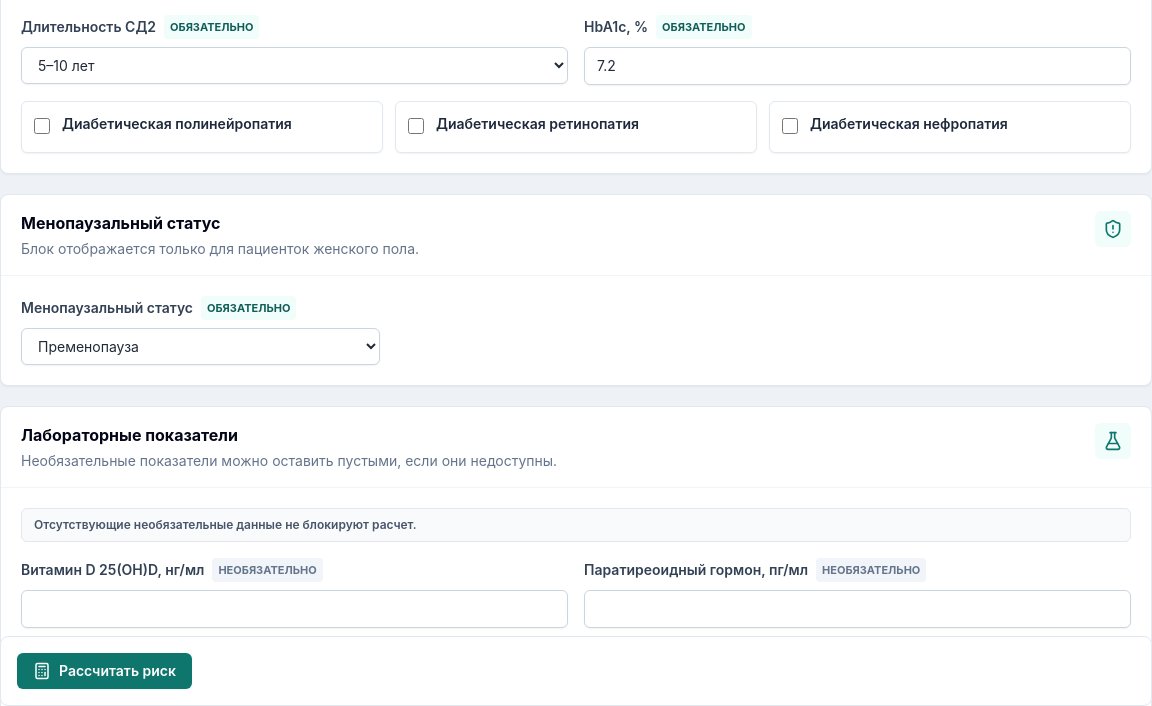
OsteoRiskPage › auto-calculates postmenopause duration
The width and height of the screenshot is (1152, 706).
(page scrolled)
Select "Постменопауза" in the dropdown labelled "Менопаузальный статус Обязательно" at [201, 346], box [21,328,380,365]
(page scrolled)
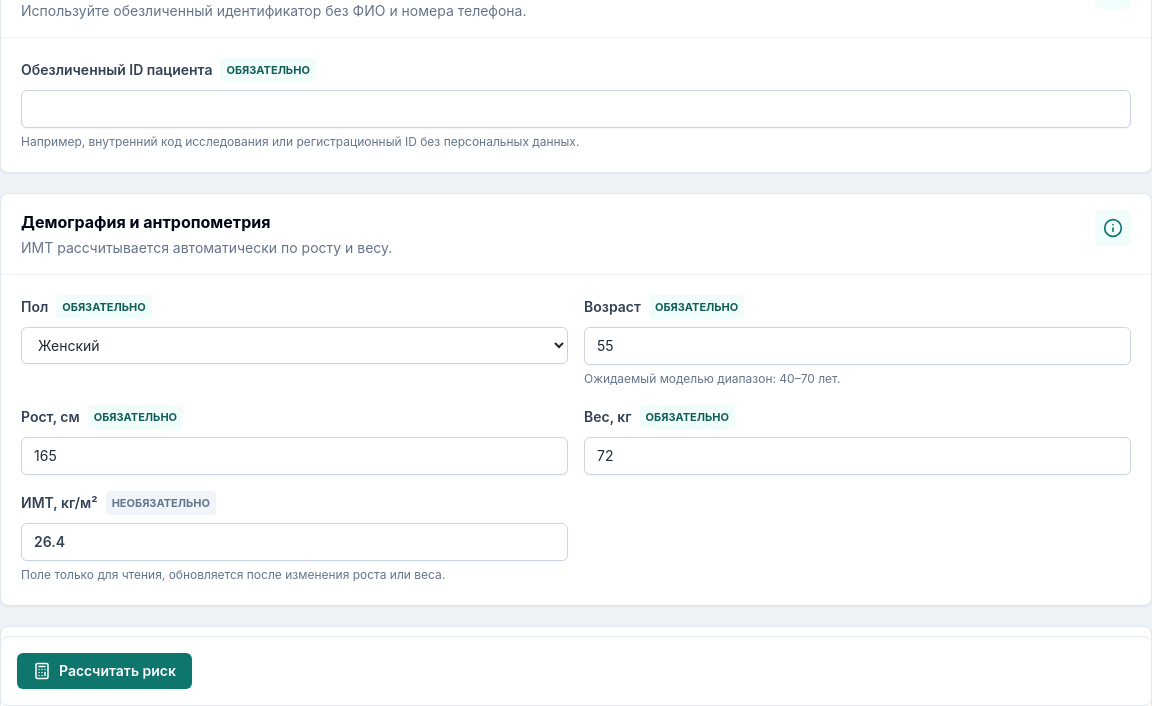
Replace the text in the number field labelled "Возраст Обязательно Ожидаемый моделью диапазон: 40–70 лет." with "65" at [858, 346], box [584,327,1131,365]
(page scrolled)
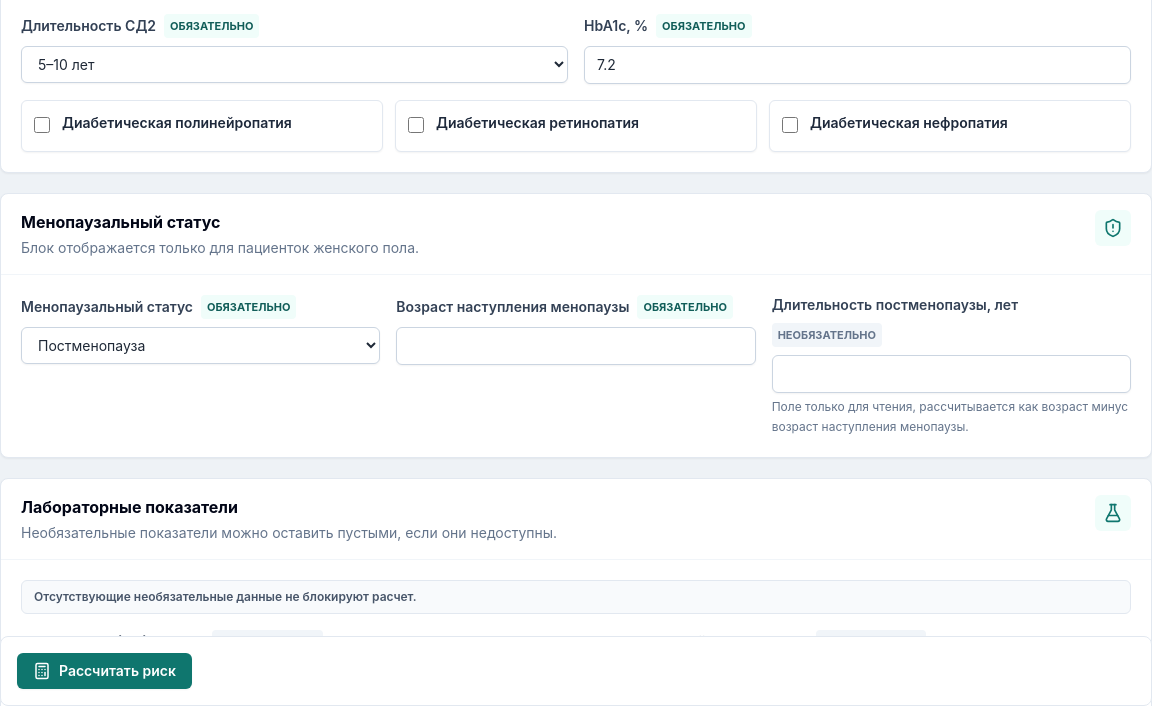
Type "50" into the number field labelled "Возраст наступления менопаузы Обязательно".
click(576, 346); type("50")  # box [396,327,756,365]
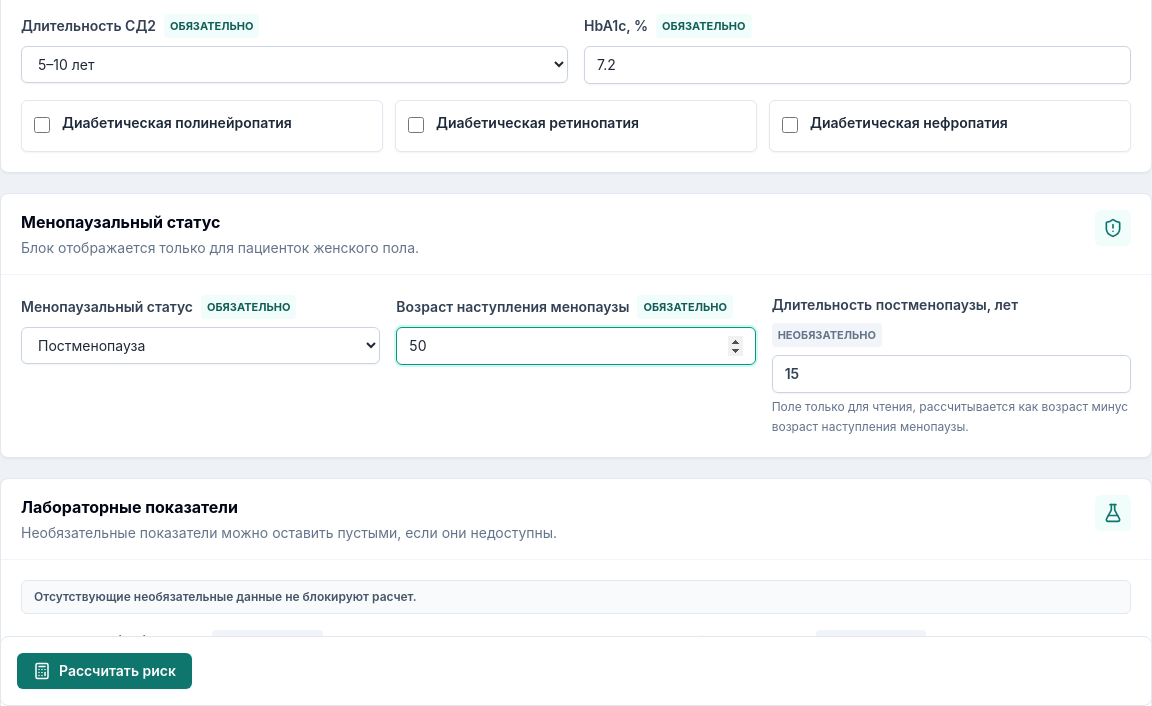
Result: the field with test id "postmenopause-duration" holds "15" at [772,355,1131,393]
